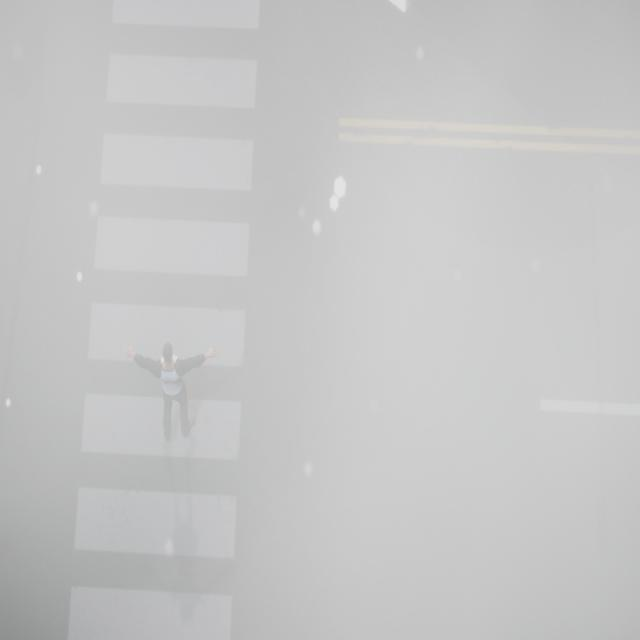Human: (130, 336, 223, 440)
